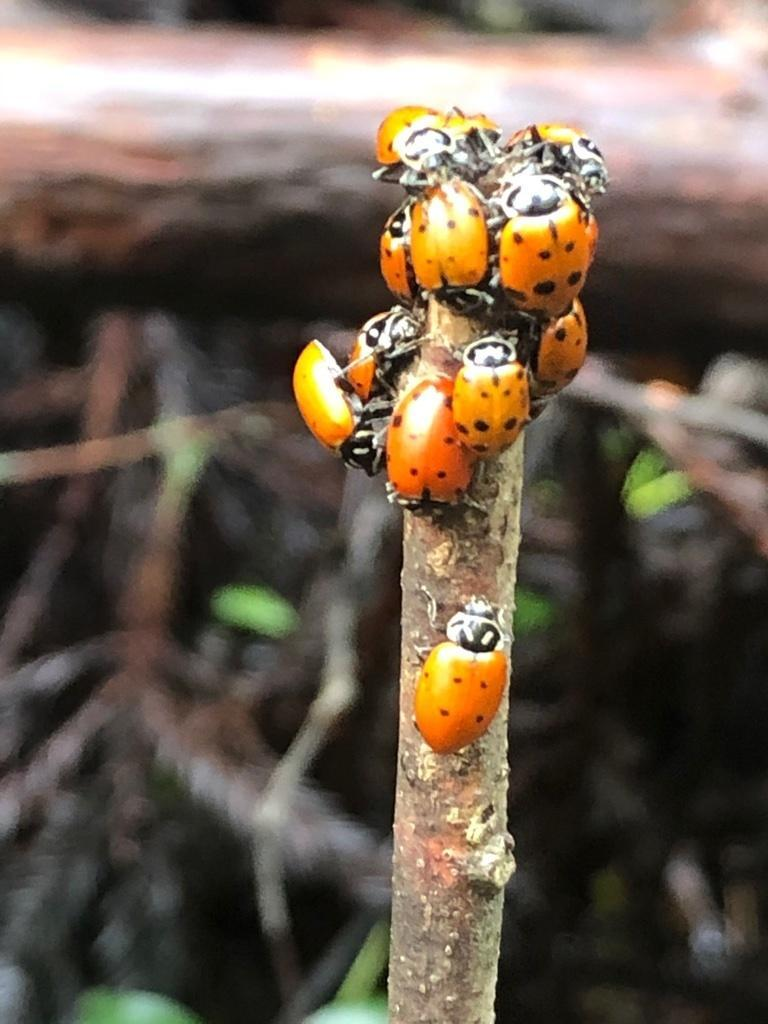ladybug: (410, 584, 516, 759), (384, 372, 493, 518), (436, 327, 544, 464), (499, 171, 596, 320), (291, 337, 392, 479), (410, 177, 496, 317), (489, 121, 613, 207), (372, 102, 470, 194), (347, 304, 436, 404), (525, 296, 593, 408), (381, 196, 423, 313), (443, 111, 505, 179)
